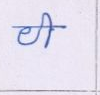i_matra: (42, 13, 54, 48)
